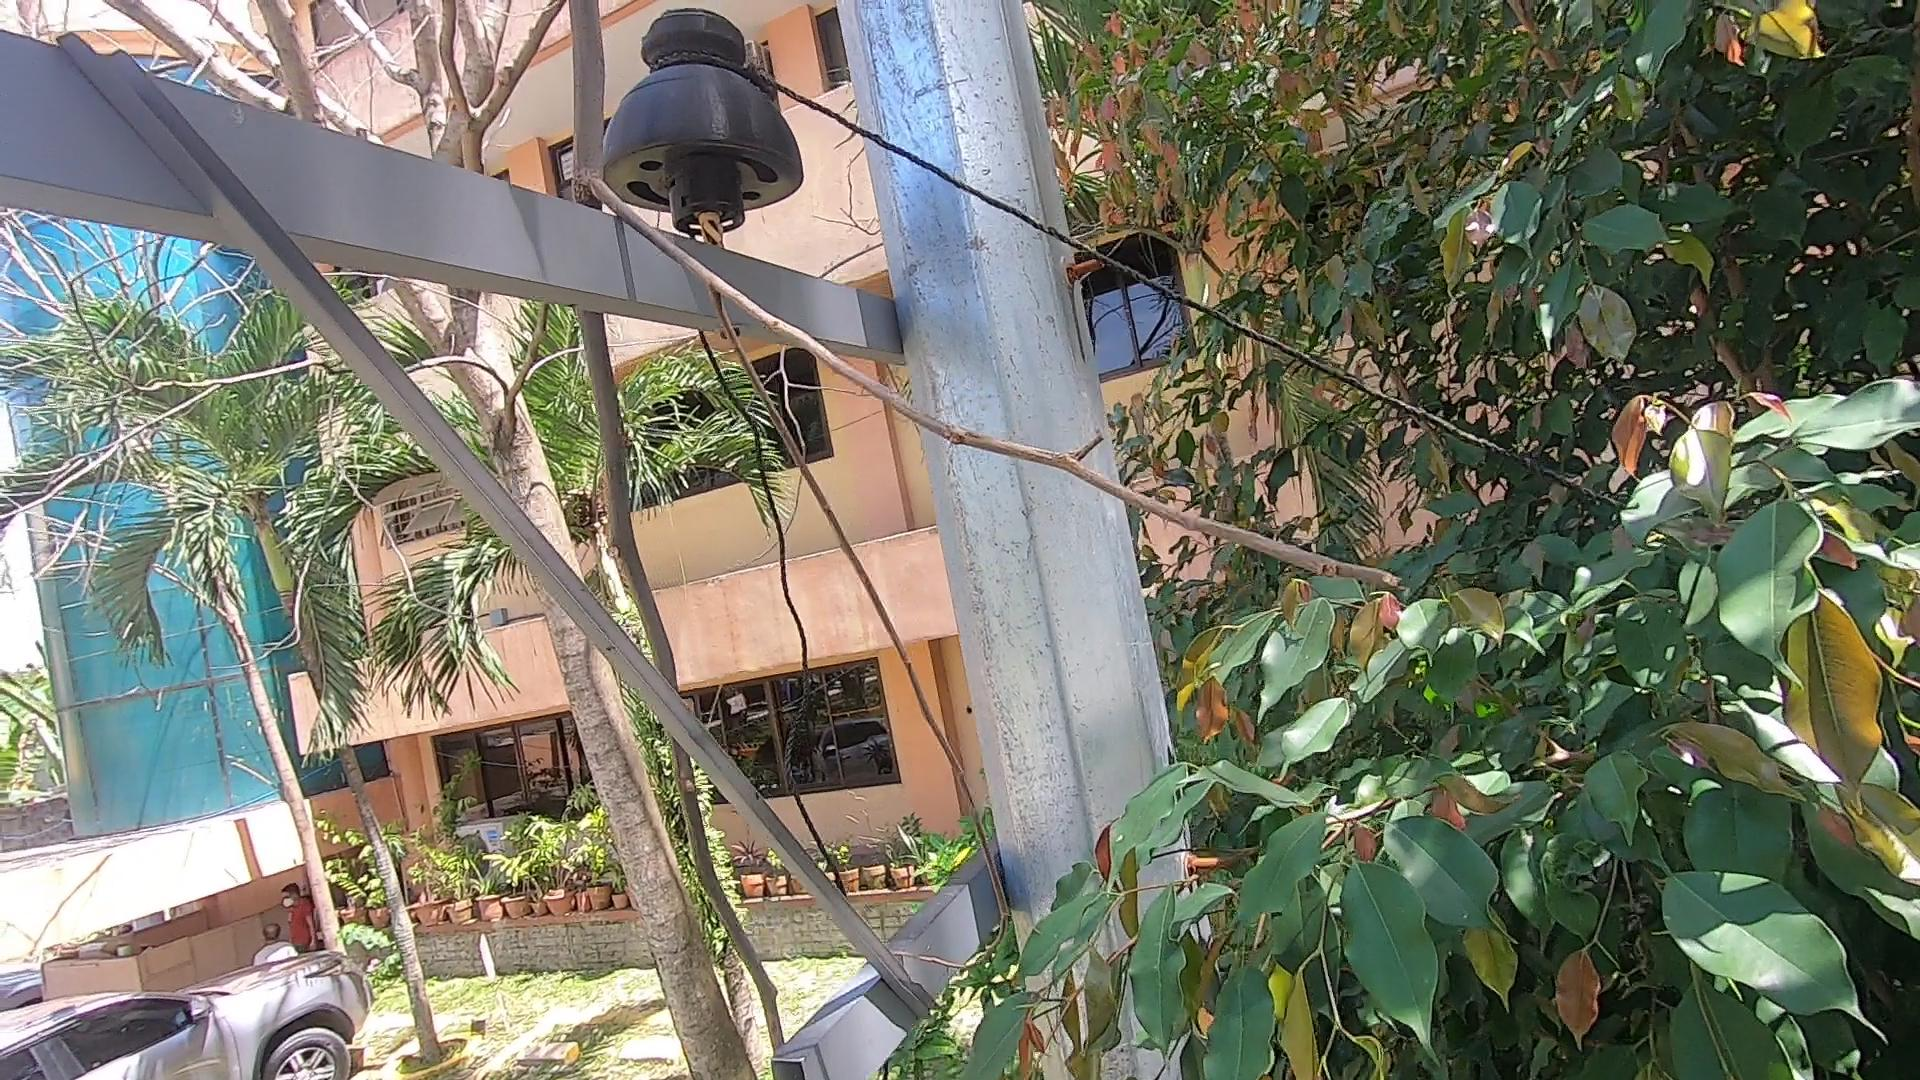tree branch: (516, 1, 1408, 1077)
